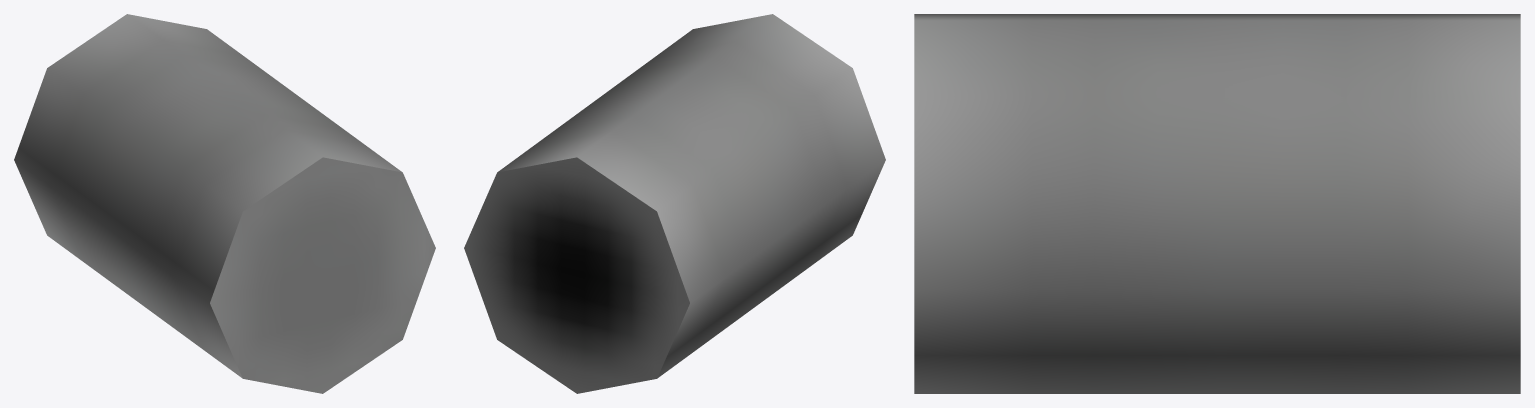
The model's file is atria_antenna_2_base_1.obj.
3 views of the same model, side by side, from view 1: azimuth 30°, elevation 25°; view 2: azimuth 150°, elevation 25°; view 3: azimuth 270°, elevation 25° (orthographic). The views are drawn at different scales.
Visible parts, largest first — view 1: atria_antenna_2_base_1; view 2: atria_antenna_2_base_1; view 3: atria_antenna_2_base_1.
Part boxes in pixels (x1,y1,x2,y2): atria_antenna_2_base_1: (14,14,435,393); atria_antenna_2_base_1: (464,14,885,393); atria_antenna_2_base_1: (914,14,1520,393).
Bounding box in the file's own units: 0.05 × 0.05 × 0.075.
1 material, 1 textured.
